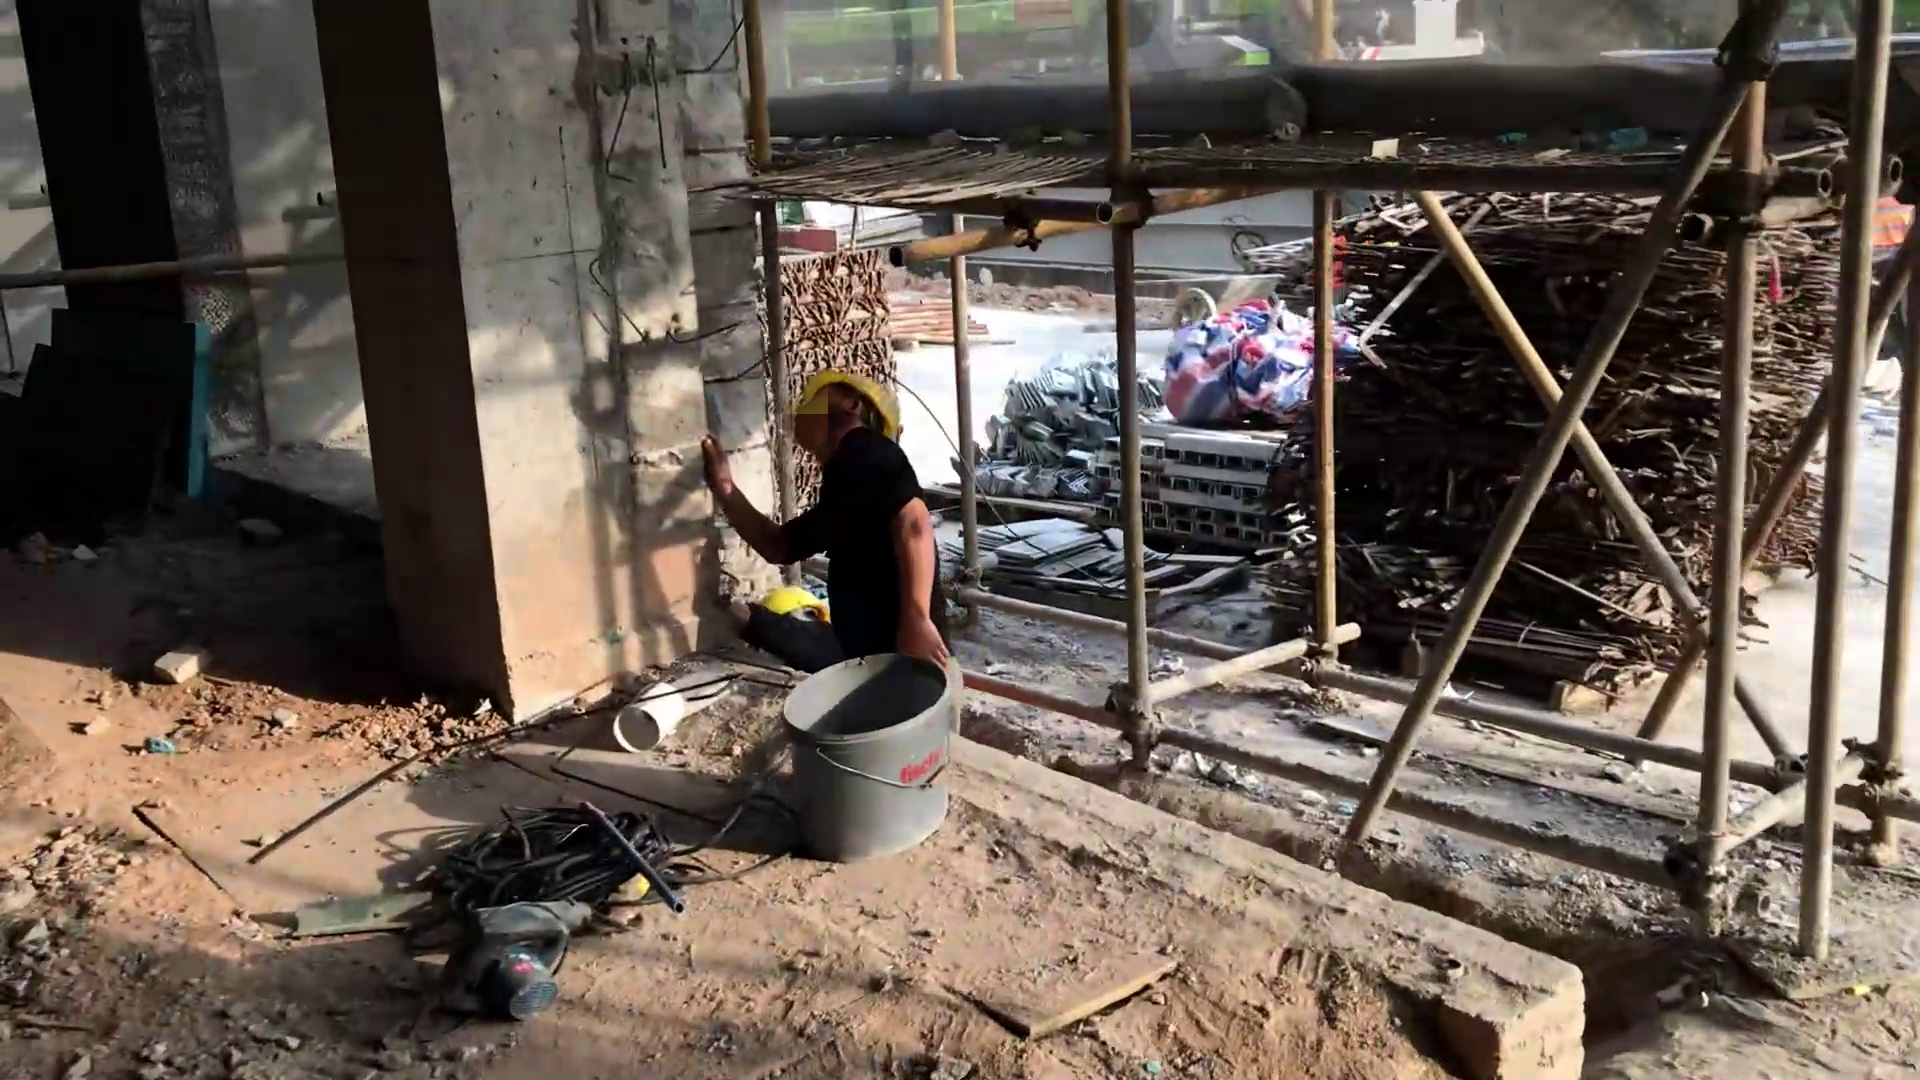handcart: (1134, 270, 1282, 335)
helmet: (803, 367, 899, 444), (753, 575, 826, 624)
person: (699, 366, 958, 677)
vest: (1871, 190, 1916, 265)
